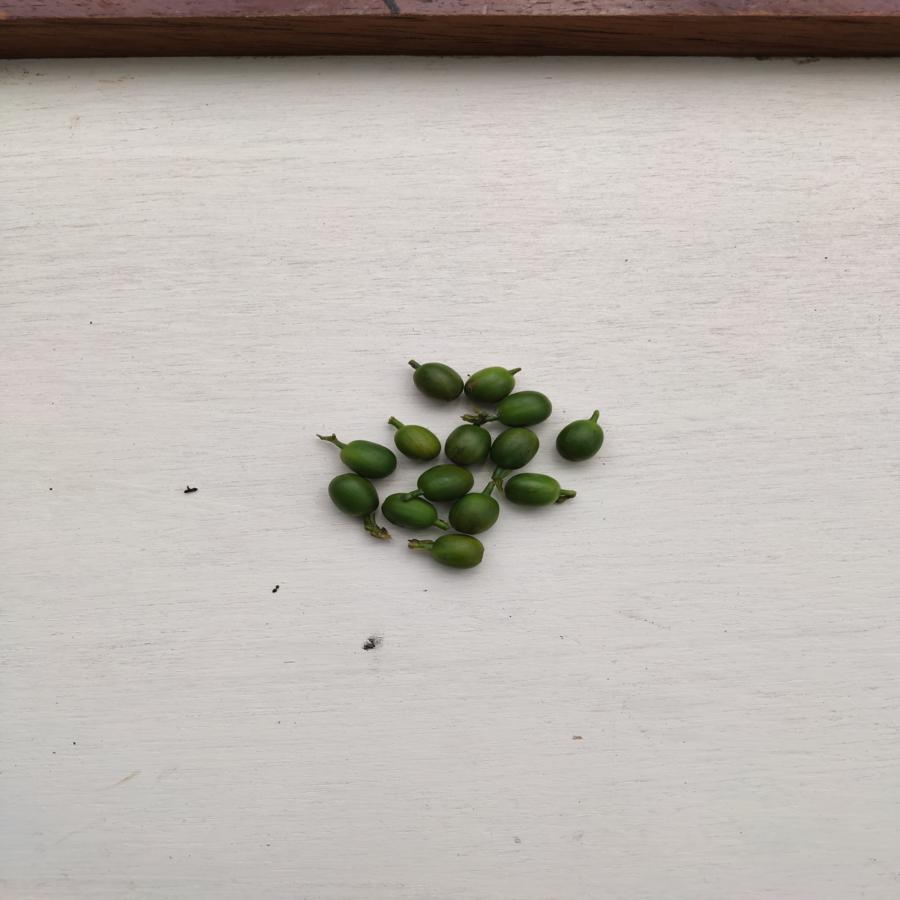Inmaduro: (502, 470, 567, 515), (408, 355, 465, 405), (337, 433, 396, 480), (324, 475, 383, 517), (555, 416, 603, 466), (429, 531, 485, 573), (382, 491, 439, 532), (448, 493, 502, 535), (462, 364, 517, 405), (497, 388, 555, 426), (490, 428, 541, 469), (414, 465, 475, 499), (445, 425, 492, 467), (392, 423, 442, 459)
